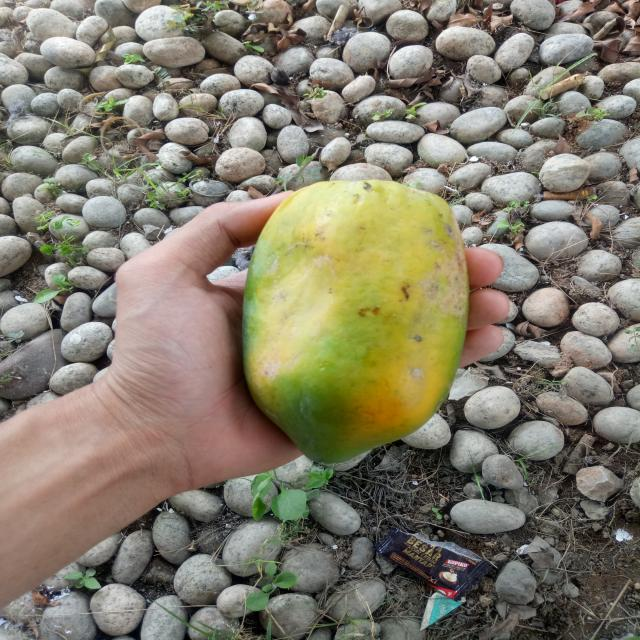Pepaya rippen: (243, 173, 474, 467)
